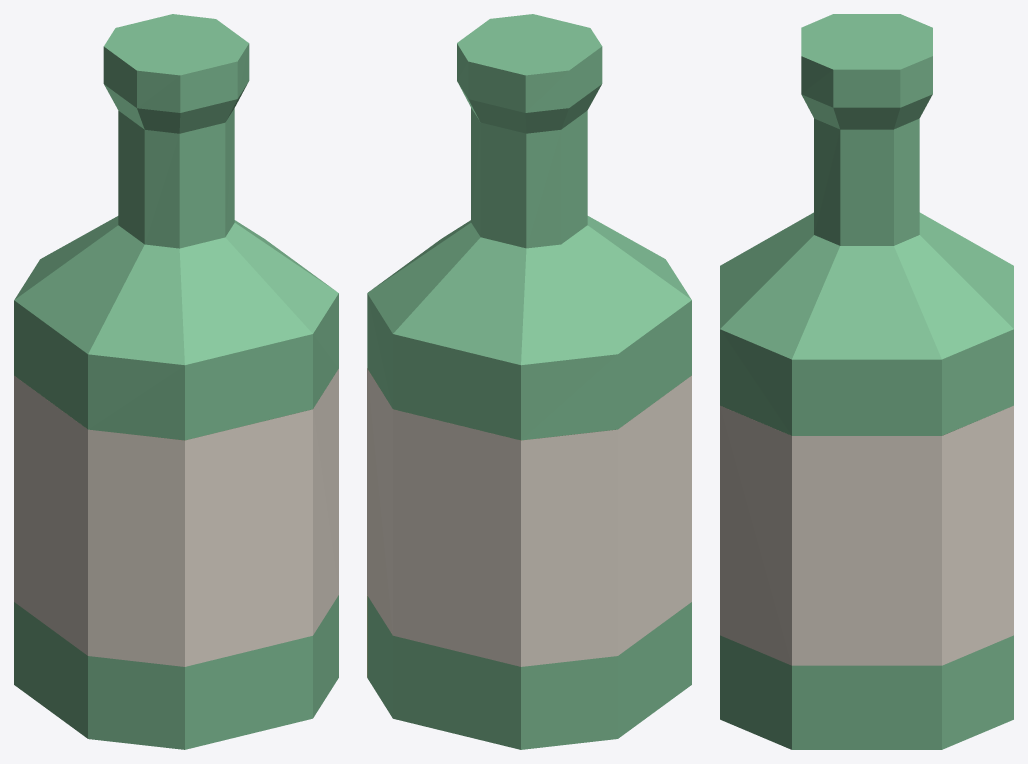
The model's file is bottle.glb.
3 views of the same model, side by side, from view 1: azimuth 30°, elevation 25°; view 2: azimuth 150°, elevation 25°; view 3: azimuth 270°, elevation 25° (orthographic).
Parts seen in each view (by area): view 1: bottle; view 2: bottle; view 3: bottle.
Part boxes in pixels (x1=…): bottle: x1=14, y1=14, x2=338, y2=749; bottle: x1=367, y1=14, x2=691, y2=749; bottle: x1=720, y1=14, x2=1013, y2=749.
Size of the model in its own units: 0.1739 by 0.4217 by 0.1739.
